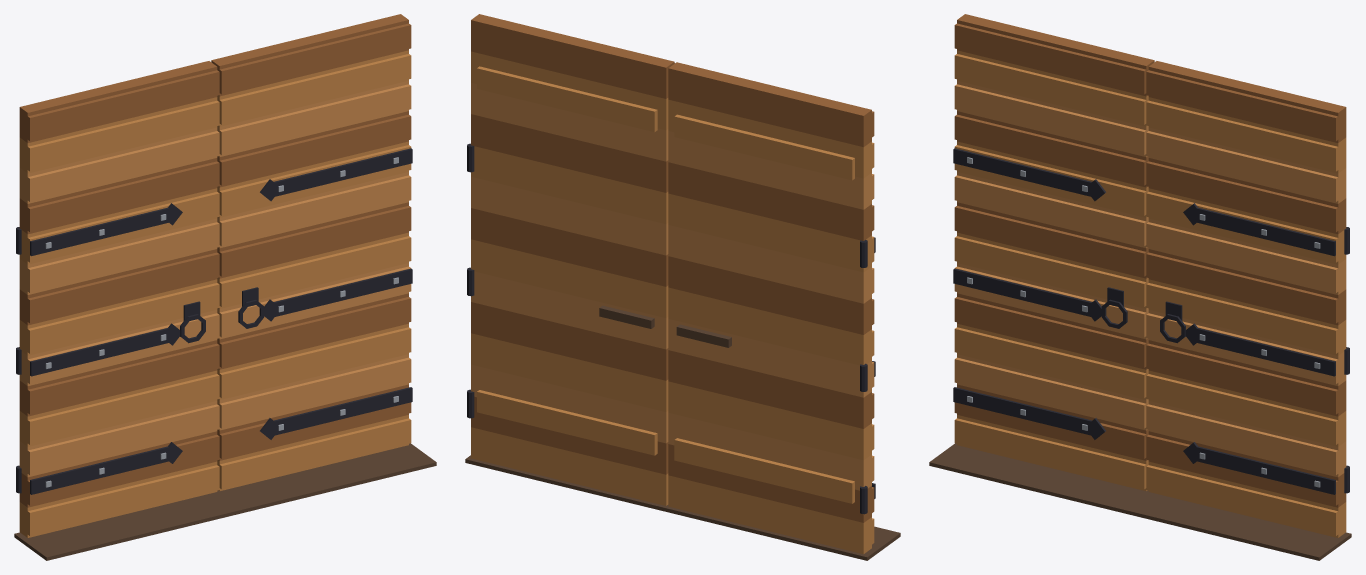
Rendered from CatCafe_Door_LogCabin_Front.glb.
The picture shows the model from 3 angles, left to right: view 1: azimuth 30°, elevation 25°; view 2: azimuth 150°, elevation 25°; view 3: azimuth 330°, elevation 25°; orthographic projection. The views are drawn at different scales.
Parts seen in each view (by area): view 1: CatCafe_Door_LogCabin_Front_LeafR, CatCafe_Door_LogCabin_Front_LeafL, CatCafe_Door_LogCabin_Front; view 2: CatCafe_Door_LogCabin_Front_LeafR, CatCafe_Door_LogCabin_Front_LeafL, CatCafe_Door_LogCabin_Front; view 3: CatCafe_Door_LogCabin_Front_LeafL, CatCafe_Door_LogCabin_Front_LeafR, CatCafe_Door_LogCabin_Front.
Part boxes in pixels (left/top/right/bottom): CatCafe_Door_LogCabin_Front_LeafR: left=16, top=61, right=219, bottom=537; CatCafe_Door_LogCabin_Front_LeafL: left=211, top=14, right=412, bottom=491; CatCafe_Door_LogCabin_Front: left=14, top=443, right=436, bottom=560; CatCafe_Door_LogCabin_Front_LeafR: left=668, top=62, right=875, bottom=554; CatCafe_Door_LogCabin_Front_LeafL: left=467, top=14, right=674, bottom=505; CatCafe_Door_LogCabin_Front: left=465, top=455, right=900, bottom=560; CatCafe_Door_LogCabin_Front_LeafL: left=1146, top=61, right=1349, bottom=537; CatCafe_Door_LogCabin_Front_LeafR: left=953, top=14, right=1154, bottom=491; CatCafe_Door_LogCabin_Front: left=929, top=443, right=1351, bottom=560.
Size of the model in its own units: 6.96 by 7.33 by 1.07.
Materials: 1 (1 with a texture image).
